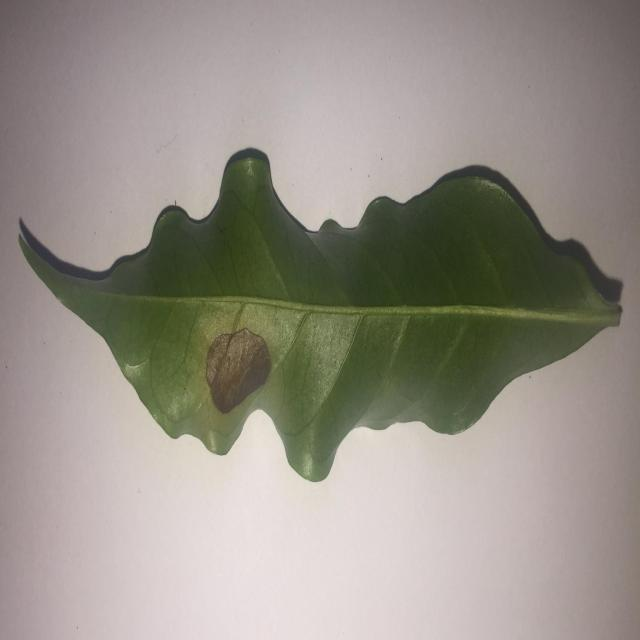miner: (206, 328, 272, 413)
